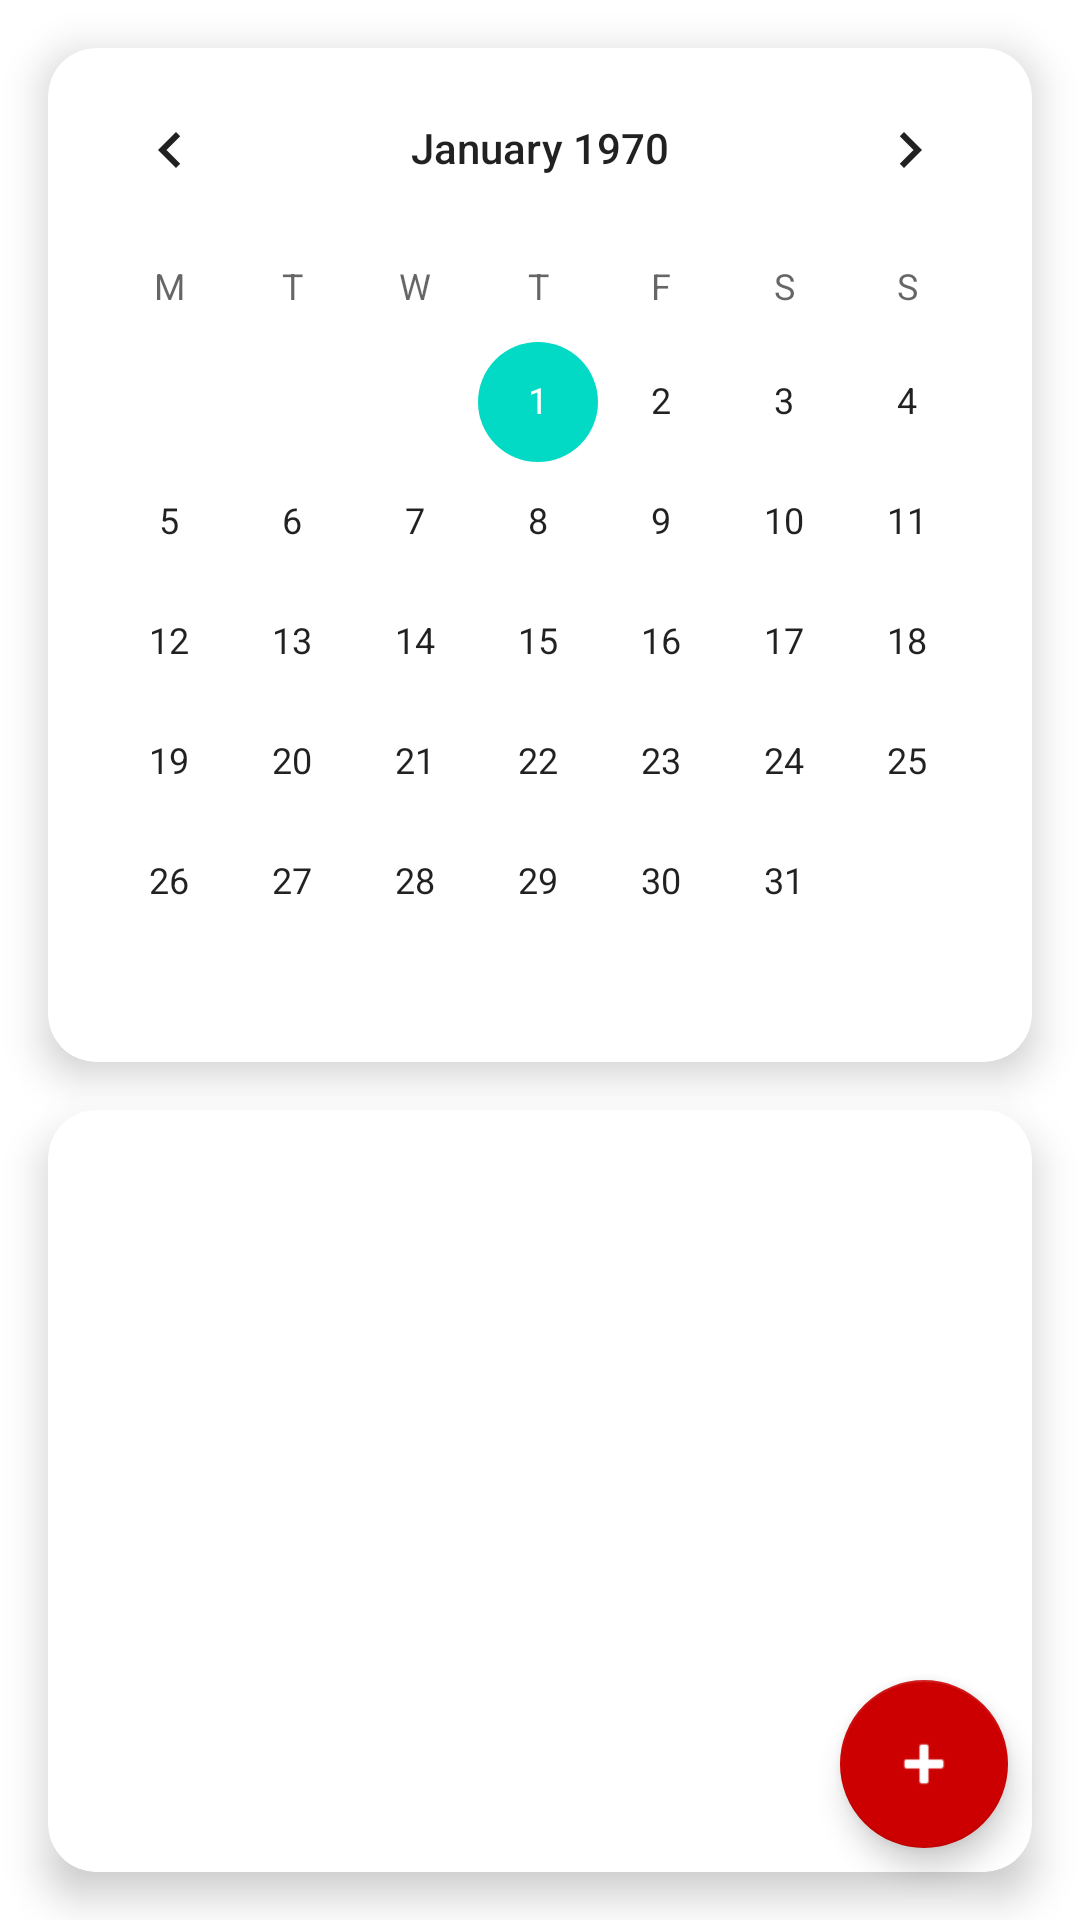

Screen size 1080px×1920px. Icon name, then its box in pixels as (x1, y1, x2, y2):
Agregar tarea: (840, 1680, 1008, 1848)
